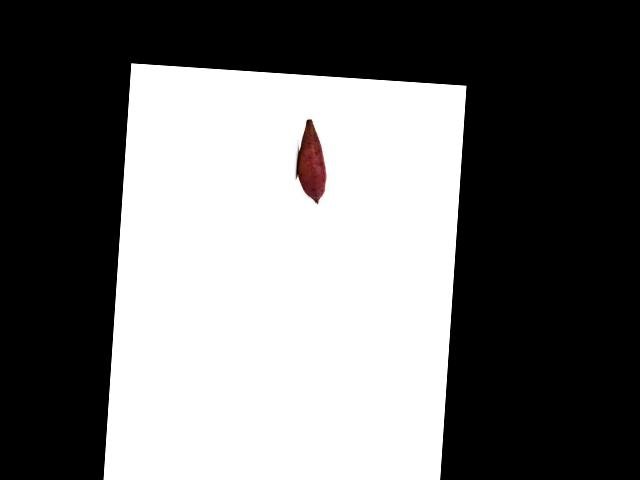sweet_potato: (296, 119, 329, 204)
